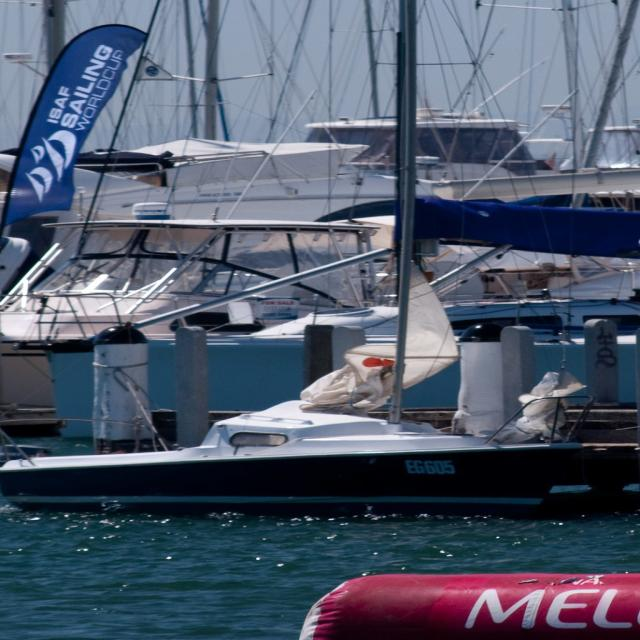Boat: (0, 0, 639, 437)
